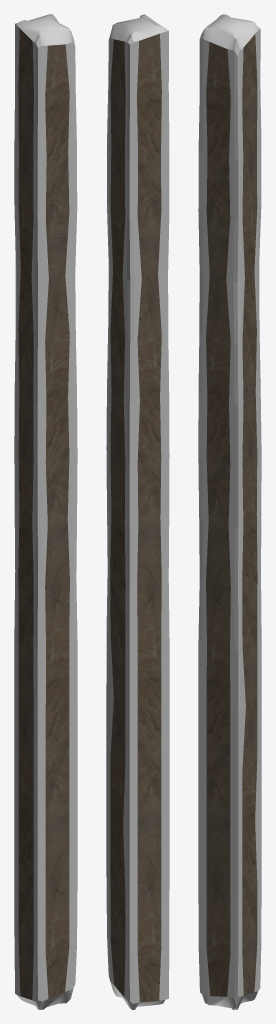
Rendered from WoodBeamC.fbx.
3 renders of one model, left to right at view 1: azimuth 30°, elevation 25°; view 2: azimuth 210°, elevation 25°; view 3: azimuth 330°, elevation 25°, orthographic.
Visible parts, largest first — view 1: WoodBeamC; view 2: WoodBeamC; view 3: WoodBeamC.
Part boxes in pixels (<box>): WoodBeamC: <box>14,14,77,1009</box>; WoodBeamC: <box>106,14,169,1009</box>; WoodBeamC: <box>198,14,261,1009</box>.
Size of the model in its own units: 16 by 374 by 16.
